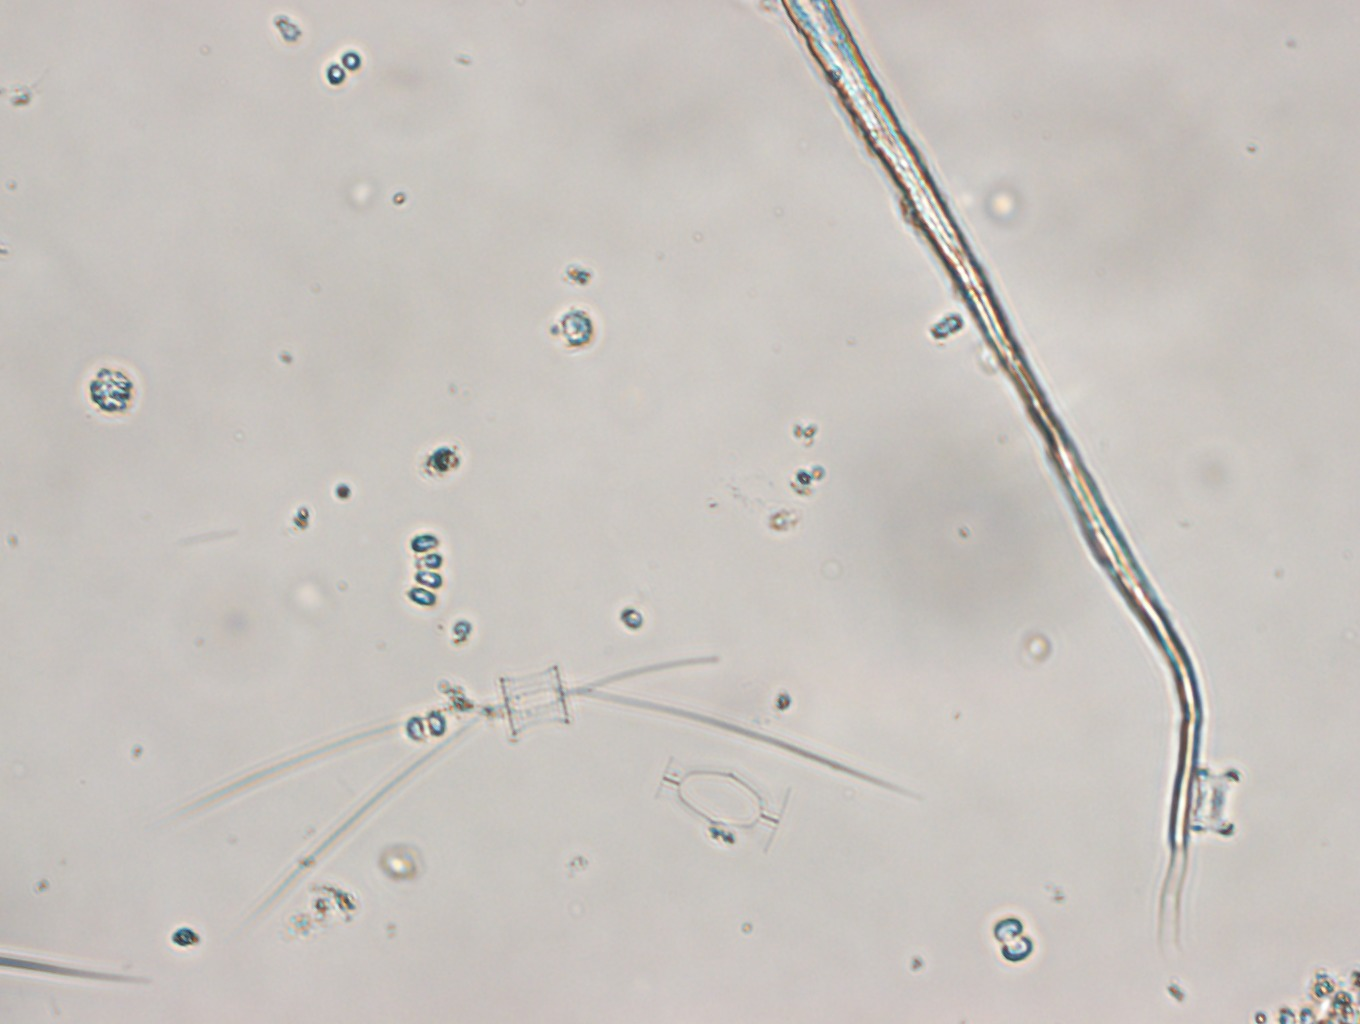chaetoceros: (175, 659, 817, 914)
